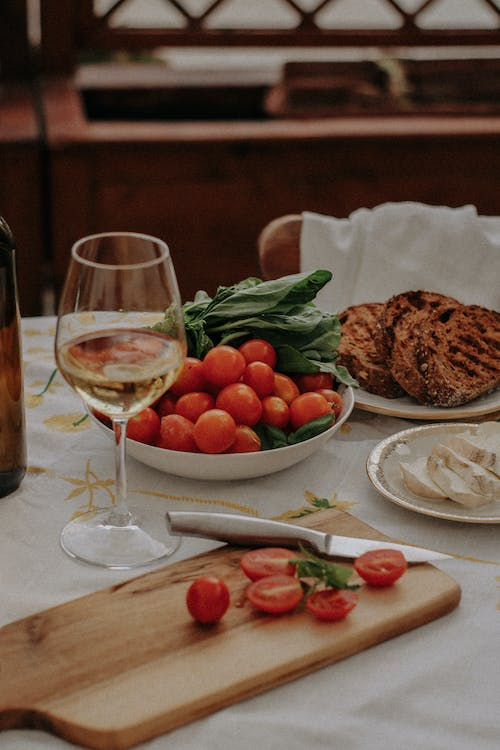alcohol: (51, 229, 189, 573)
knife: (162, 509, 457, 564)
